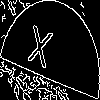X: (25, 25, 54, 78)
